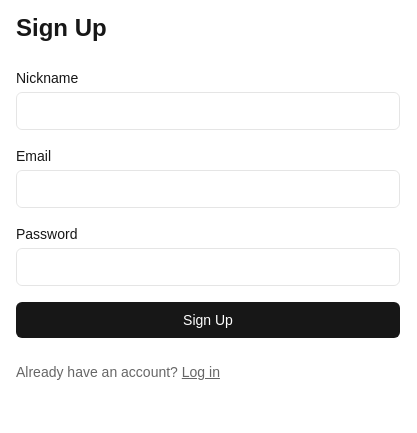
Test: SignupPage › signup은 성공했지만 이어지는 login이 실패하면 에러 표시
Type "tester" into the field labelled "Nickname".
click(208, 111); type("tester")  # box [16, 92, 400, 130]
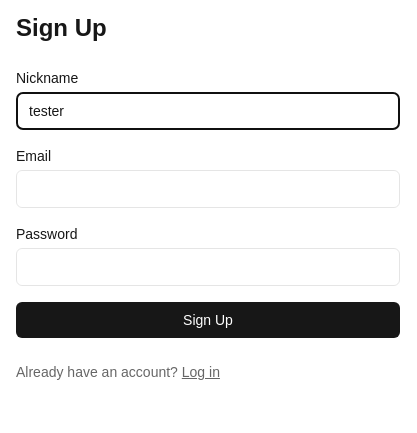
Type "a@test.com" into the field labelled "Email".
click(208, 189); type("a@test.com")  # box [16, 170, 400, 208]
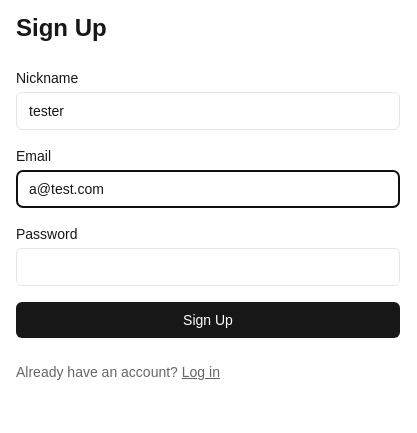
Type "pw123456" into the password field labelled "Password".
click(208, 267); type("pw123456")  # box [16, 248, 400, 286]
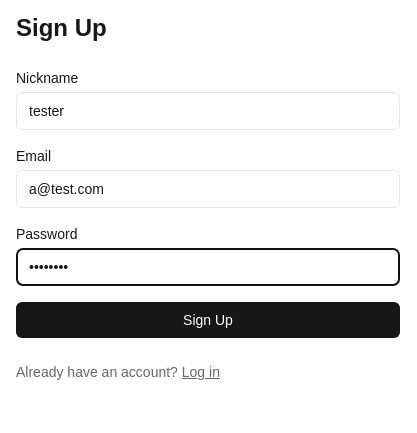
Click the button "Sign Up".
click(208, 320)  # box [16, 302, 400, 338]
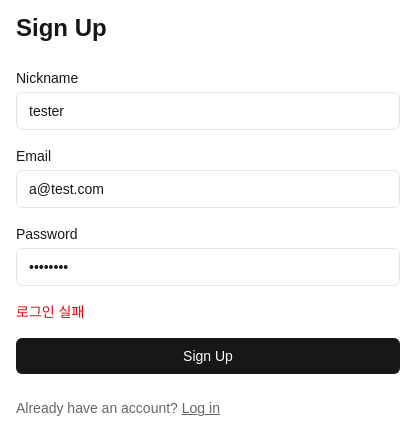
Check: the text "로그인 실패" is shown, box [16, 304, 84, 320]
